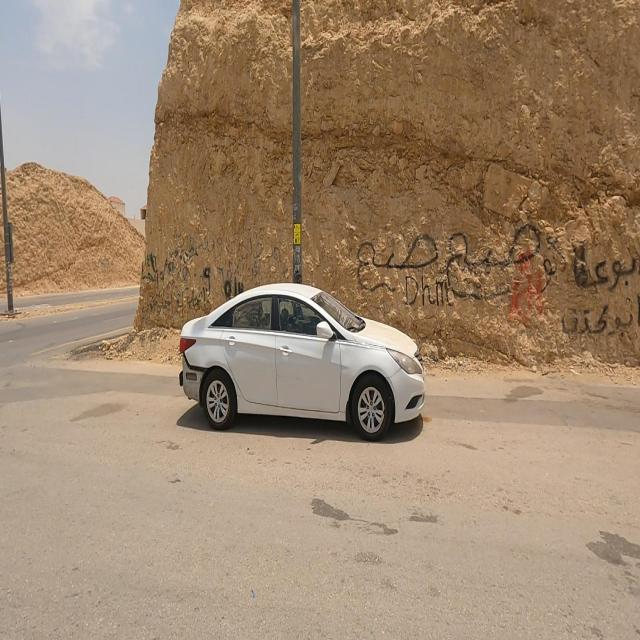debris: (261, 137, 627, 406), (72, 190, 308, 350), (516, 174, 640, 433)
